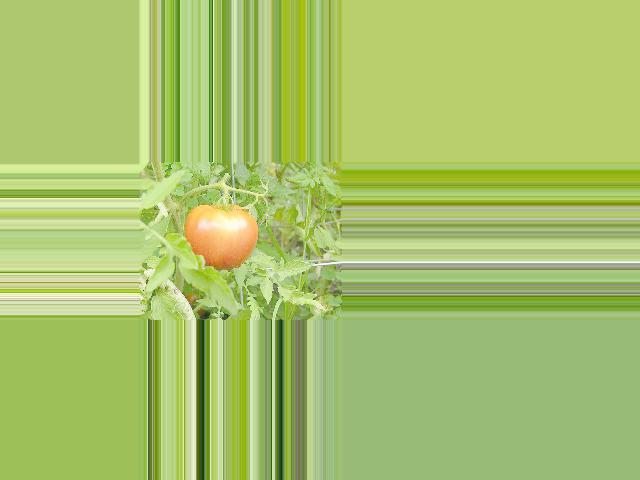tomato: (185, 203, 257, 268)
